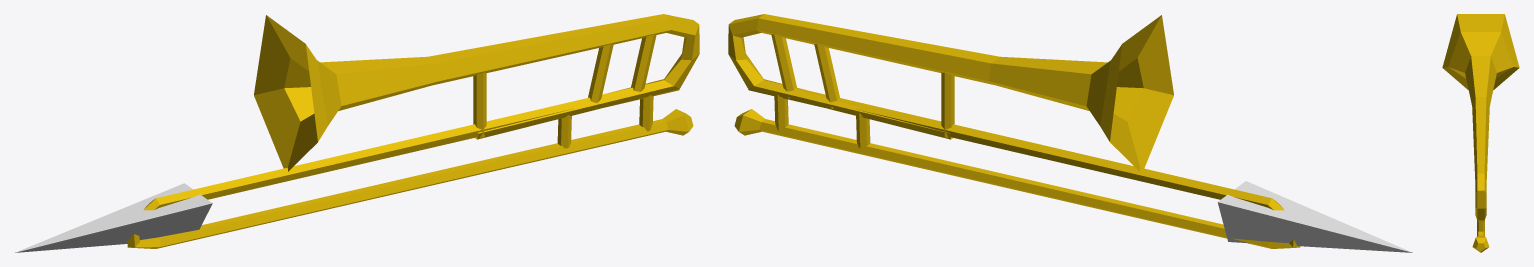
Rendered from Trombone.glb.
3 views of the same model, side by side, from view 1: azimuth 30°, elevation 25°; view 2: azimuth 150°, elevation 25°; view 3: azimuth 270°, elevation 25° (orthographic). The views are drawn at different scales.
Visible parts, largest first — view 1: Trombone, Slide, Cone; view 2: Trombone, Slide, Cone; view 3: Trombone, Slide.
Part boxes in pixels (bbox=[...]): Trombone: bbox=[254, 14, 699, 171]; Slide: bbox=[127, 82, 693, 248]; Cone: bbox=[15, 183, 212, 252]; Trombone: bbox=[728, 14, 1173, 171]; Slide: bbox=[734, 82, 1300, 248]; Cone: bbox=[1217, 181, 1412, 252]; Trombone: bbox=[1442, 14, 1519, 220]; Slide: bbox=[1472, 220, 1489, 252].
Size of the model in its own units: 3.91 by 1.11 by 0.637.
